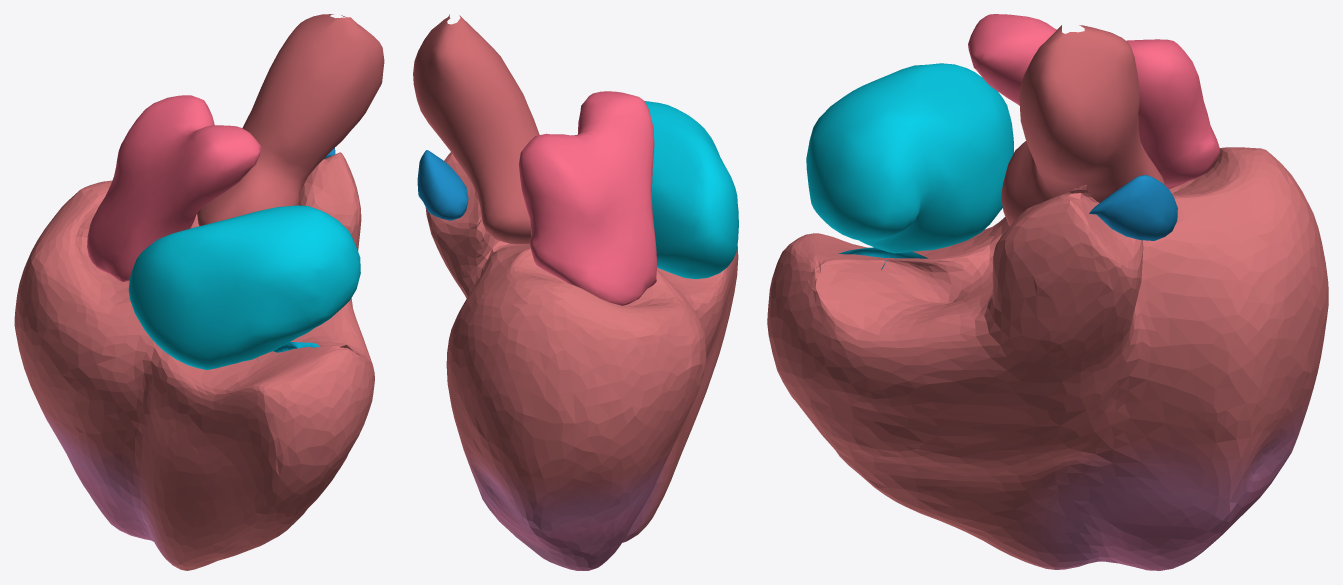
File: frame_43.glb
3 renders of one model, left to right at view 1: azimuth 30°, elevation 25°; view 2: azimuth 150°, elevation 25°; view 3: azimuth 270°, elevation 25°, orthographic. The views are drawn at different scales.
Visible parts, largest first — view 1: Renderer Node; view 2: Renderer Node; view 3: Renderer Node.
Part boxes in pixels (bbox=[...]): Renderer Node: bbox=[14, 14, 384, 570]; Renderer Node: bbox=[413, 14, 738, 570]; Renderer Node: bbox=[767, 14, 1328, 570].
Size of the model in its own units: 102 by 159 by 126.
